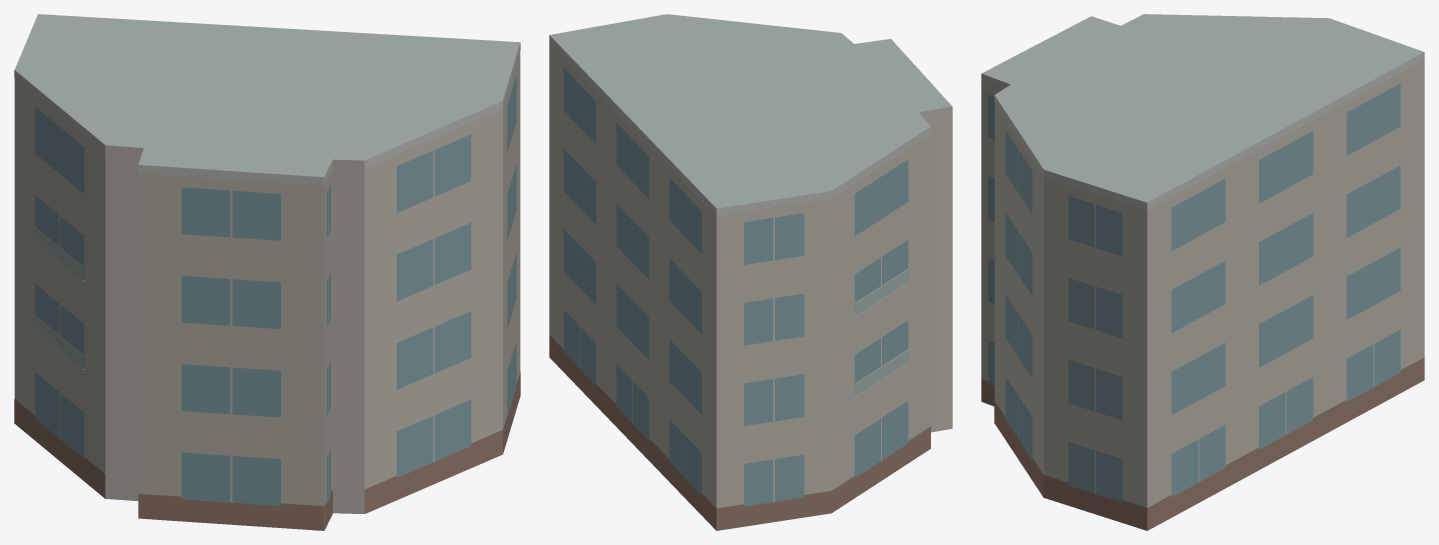
File: survey-upis-32489153.glb
3 renders of one model, left to right at view 1: azimuth 30°, elevation 25°; view 2: azimuth 150°, elevation 25°; view 3: azimuth 270°, elevation 25°, orthographic. The views are drawn at different scales.
Visible parts, largest first — view 1: survey-upis-32489153.tmp; view 2: survey-upis-32489153.tmp; view 3: survey-upis-32489153.tmp.
Boxes of the visible parts, <box> form: survey-upis-32489153.tmp: <box>14,14,520,530</box>; survey-upis-32489153.tmp: <box>549,14,952,530</box>; survey-upis-32489153.tmp: <box>981,14,1424,530</box>.
Size of the model in its own units: 12.96 by 10.5 by 12.86.
